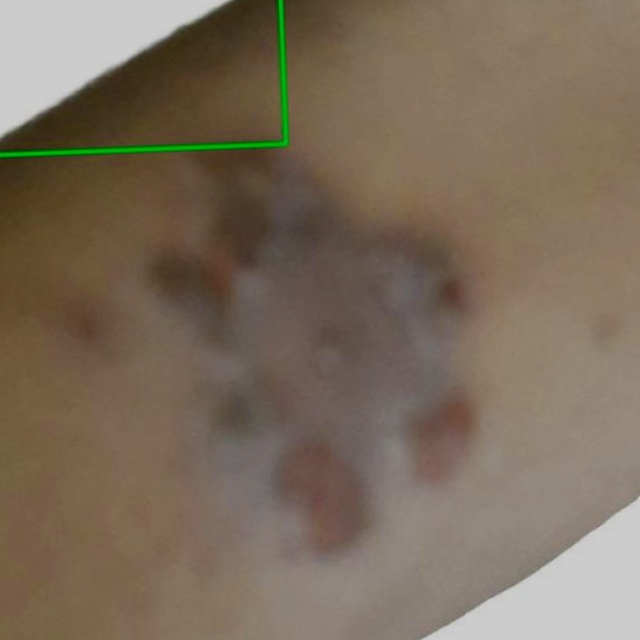Eczema: (0, 0, 286, 154)
